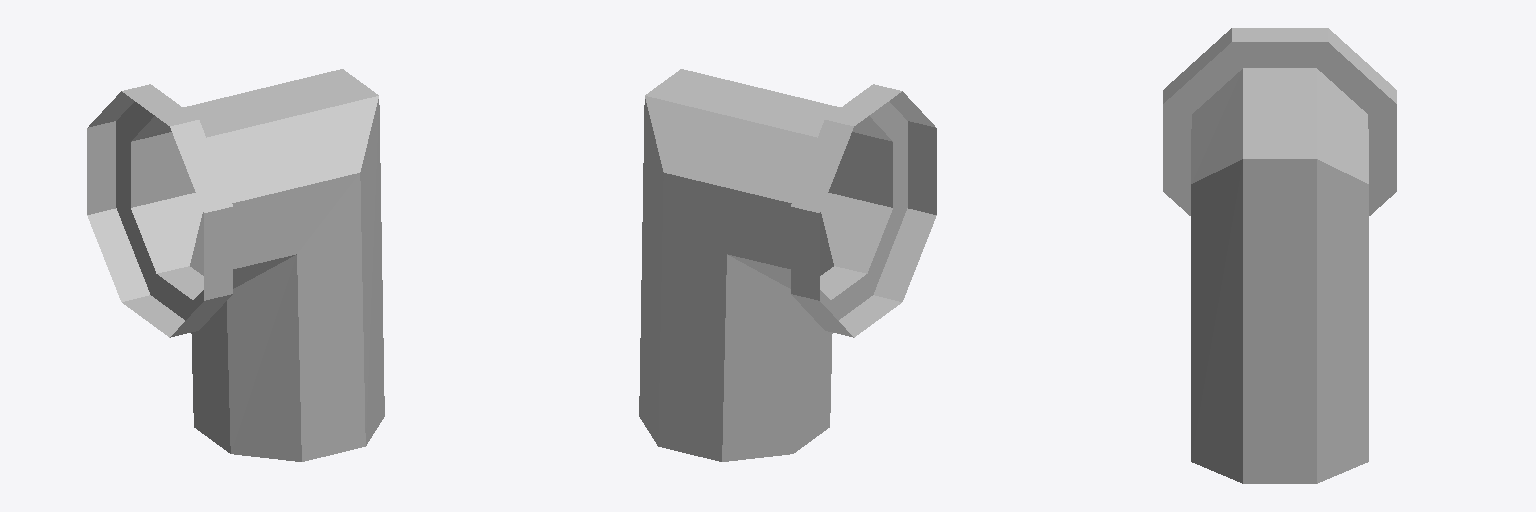
The model's file is Pipe_curved_Low.obj.
The picture shows the model from 3 angles: view 1: azimuth 30°, elevation 25°; view 2: azimuth 150°, elevation 25°; view 3: azimuth 270°, elevation 25°; orthographic projection.
Visible parts, largest first — view 1: Pipe_Low; view 2: Pipe_Low; view 3: Pipe_Low.
Boxes of the visible parts, box(x1,y1,x2,y2) form: Pipe_Low: box(87, 69, 384, 461); Pipe_Low: box(639, 69, 936, 461); Pipe_Low: box(1163, 28, 1396, 483).
Size of the model in its own units: 1.78 by 2.68 by 1.63.